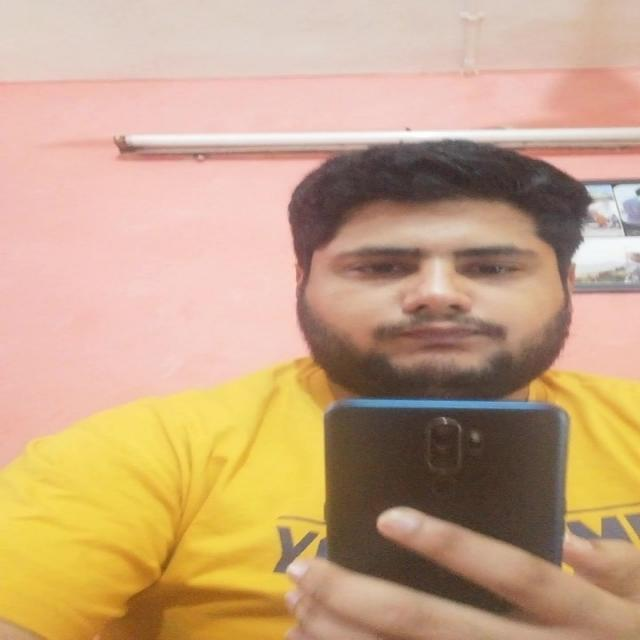Phone: (322, 394, 571, 558)
